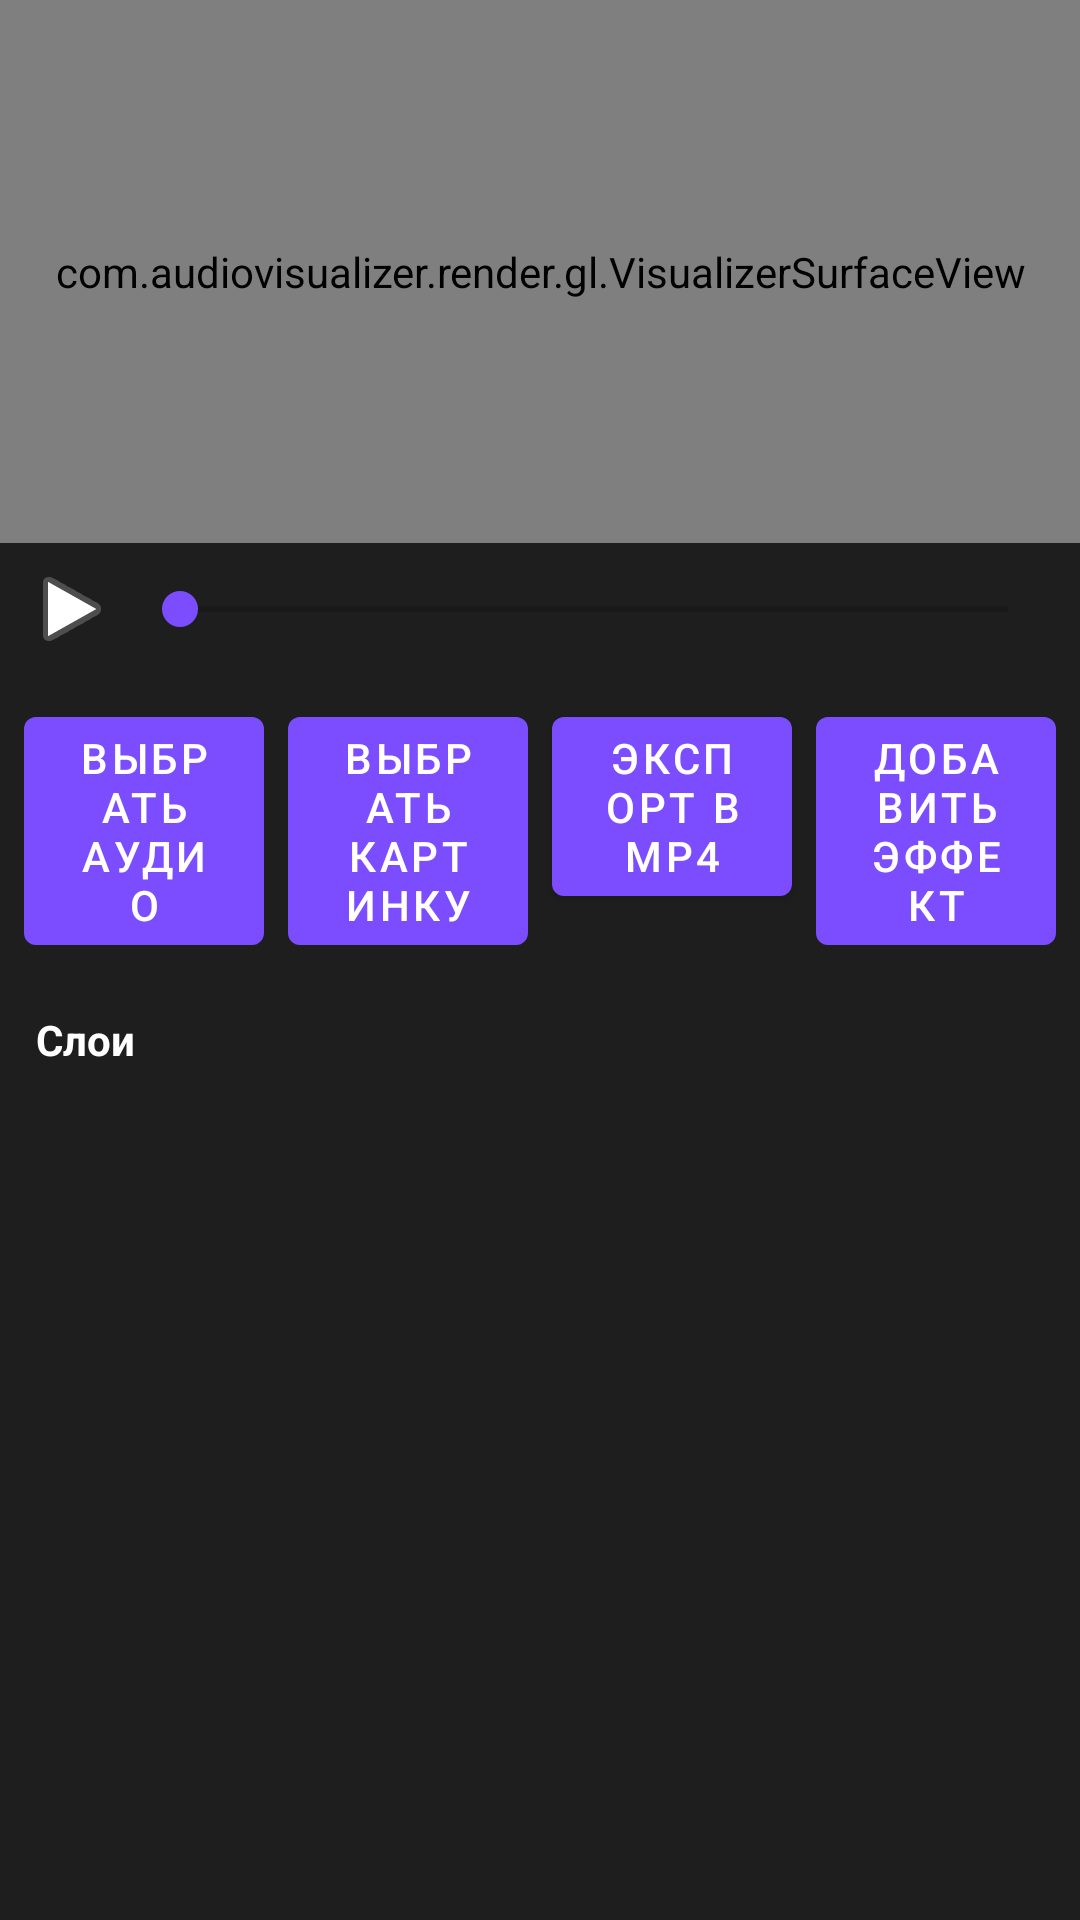

Where to tap for icons on this 1080px x 1920px app screen, as [x,y]:
Играть/Пауза: [72,609]
